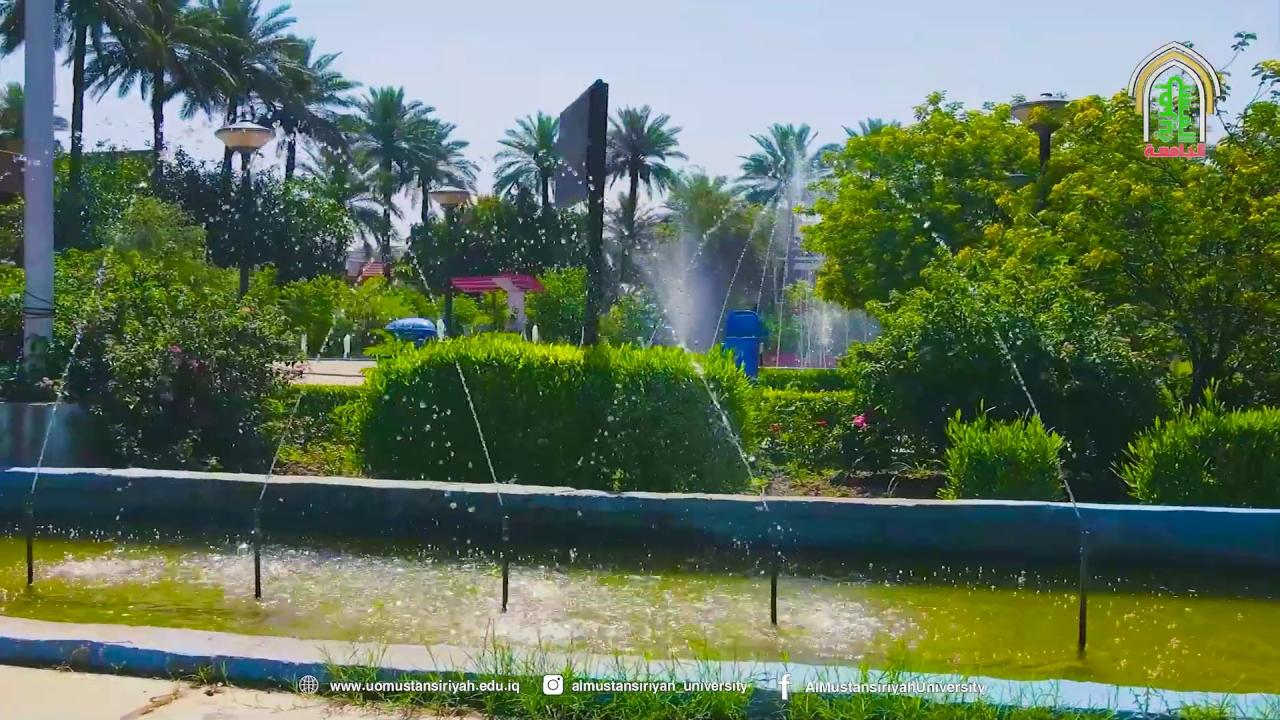fountain: (1, 469, 1279, 713), (633, 139, 878, 379)
tree: (799, 39, 1279, 498), (988, 61, 1279, 416), (1, 0, 362, 281), (795, 89, 1039, 318), (213, 31, 361, 292), (2, 0, 154, 251), (78, 0, 244, 197), (734, 121, 832, 364), (342, 83, 441, 278), (654, 165, 756, 352), (600, 103, 686, 283), (213, 119, 273, 300), (491, 110, 564, 218), (408, 118, 479, 226), (736, 121, 820, 204)
